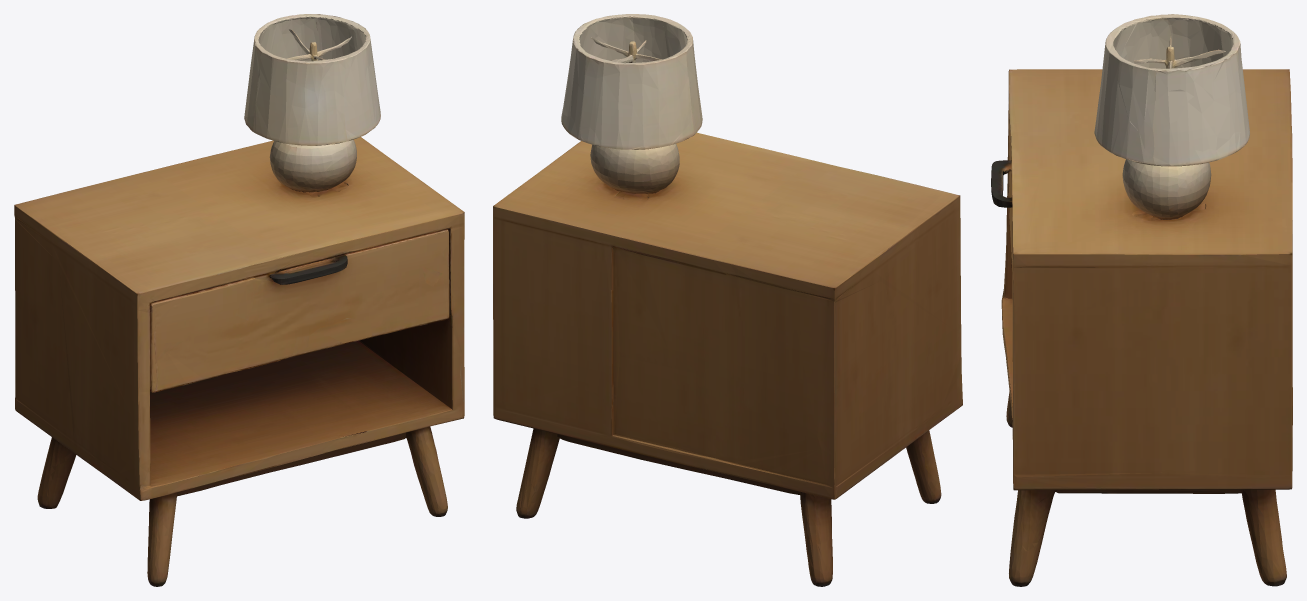
File: nightstand_lamp.glb
3 views of the same model, side by side, from view 1: azimuth 30°, elevation 25°; view 2: azimuth 150°, elevation 25°; view 3: azimuth 270°, elevation 25° (orthographic). The views are drawn at different scales.
Parts seen in each view (by area): view 1: geometry_0; view 2: geometry_0; view 3: geometry_0.
Part boxes in pixels (box(x1,y1,x2,y2)): geometry_0: box(14, 14, 464, 586); geometry_0: box(493, 14, 962, 586); geometry_0: box(991, 14, 1292, 586).
Size of the model in its own units: 0.7827 by 1 by 0.5392.
1 material, 1 textured.
